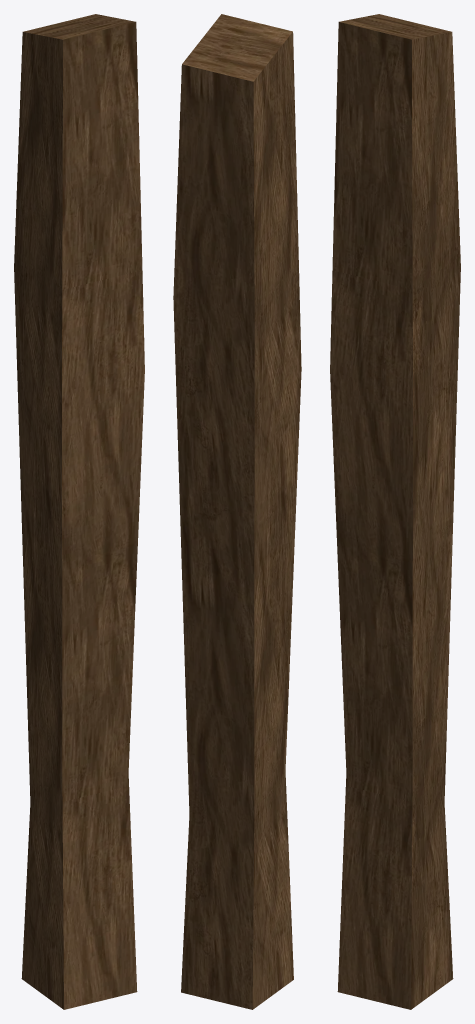
File: wooden-plank05.glb
3 renders of one model, left to right at view 1: azimuth 30°, elevation 25°; view 2: azimuth 150°, elevation 25°; view 3: azimuth 330°, elevation 25°, orthographic. The views are drawn at different scales.
Parts seen in each view (by area): view 1: WoodenPlank05; view 2: WoodenPlank05; view 3: WoodenPlank05.
Boxes of the visible parts, x1,y1,x2,y2 form: WoodenPlank05: (14,14,144,1009); WoodenPlank05: (173,14,301,1009); WoodenPlank05: (330,14,460,1009).
Size of the model in its own units: 0.2394 by 2.67 by 0.2394.
Materials: 1 (1 with a texture image).
